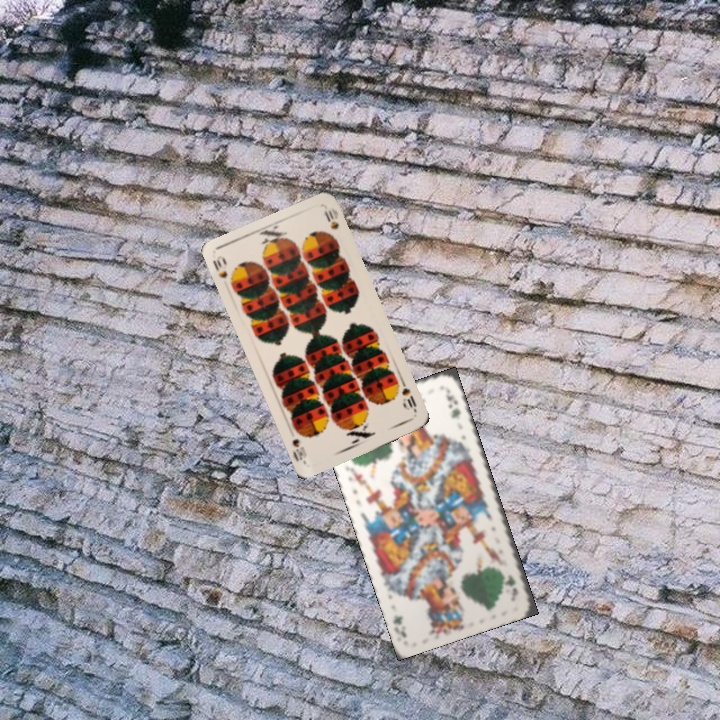GK: (502, 571, 519, 598)
S10: (208, 251, 237, 289), (397, 377, 420, 416)
